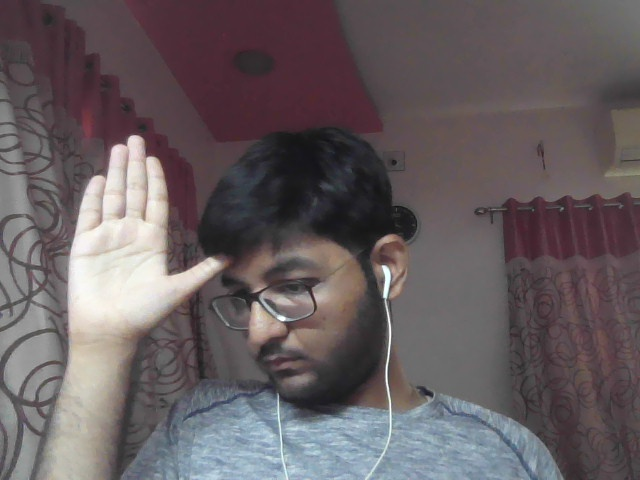પિતા: (55, 130, 238, 368)
